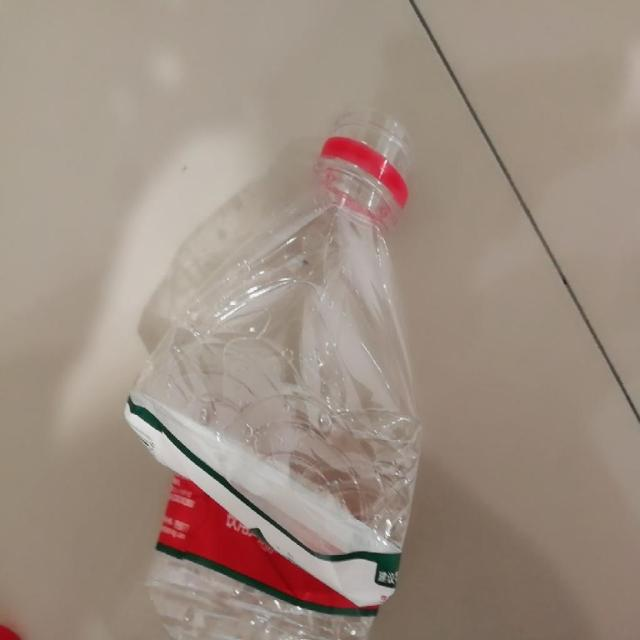-Recyclables - plastic bottle-: (130, 104, 422, 636)
